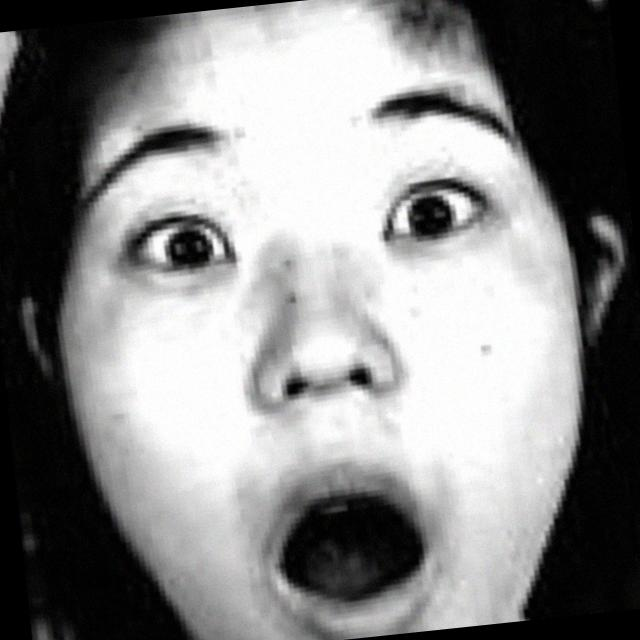surprise: (48, 0, 636, 640)
